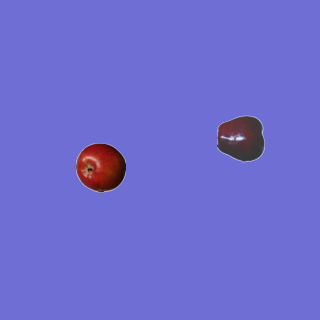Apple Braeburn: (75, 142, 125, 192)
Apple Red Delicious: (216, 113, 266, 163)
